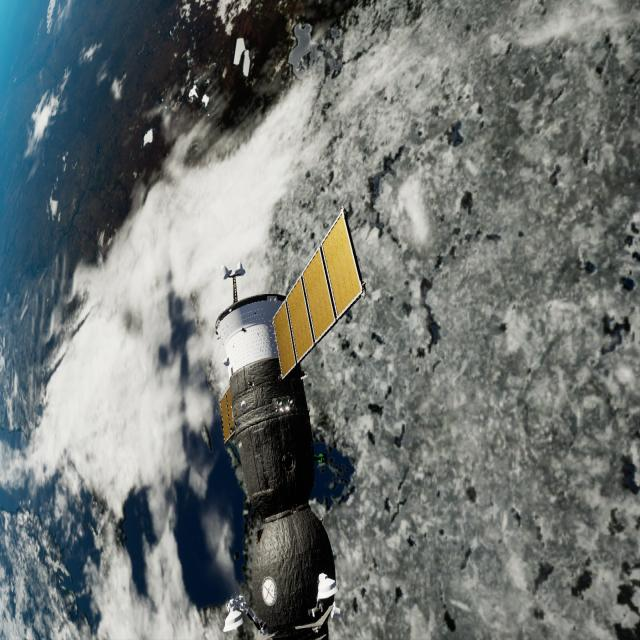Satellites revolving around earth: (212, 205, 367, 637)
